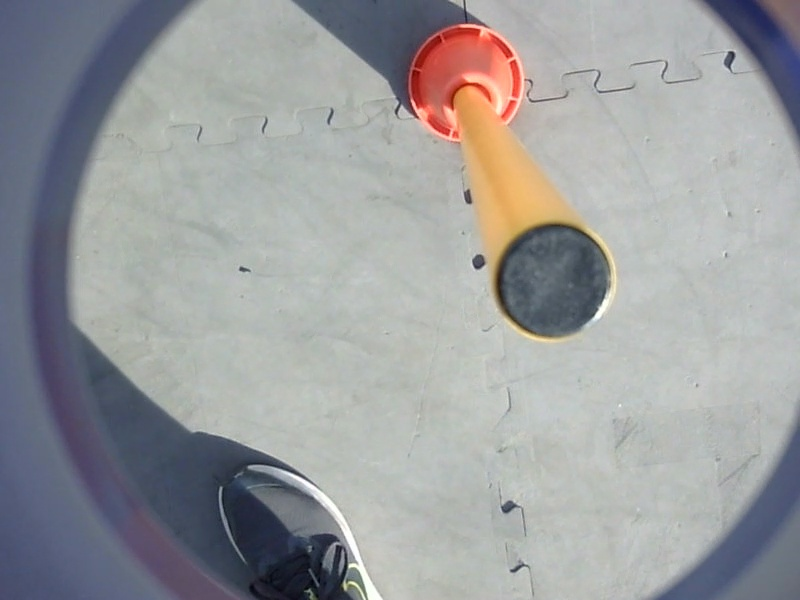tip: (486, 212, 620, 345)
